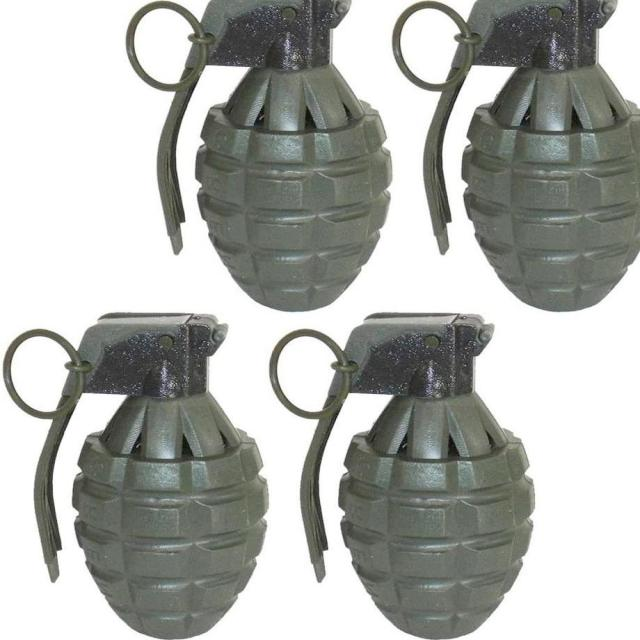grenade: (269, 313, 538, 640), (2, 313, 271, 640), (124, 1, 393, 314), (392, 1, 640, 315)
